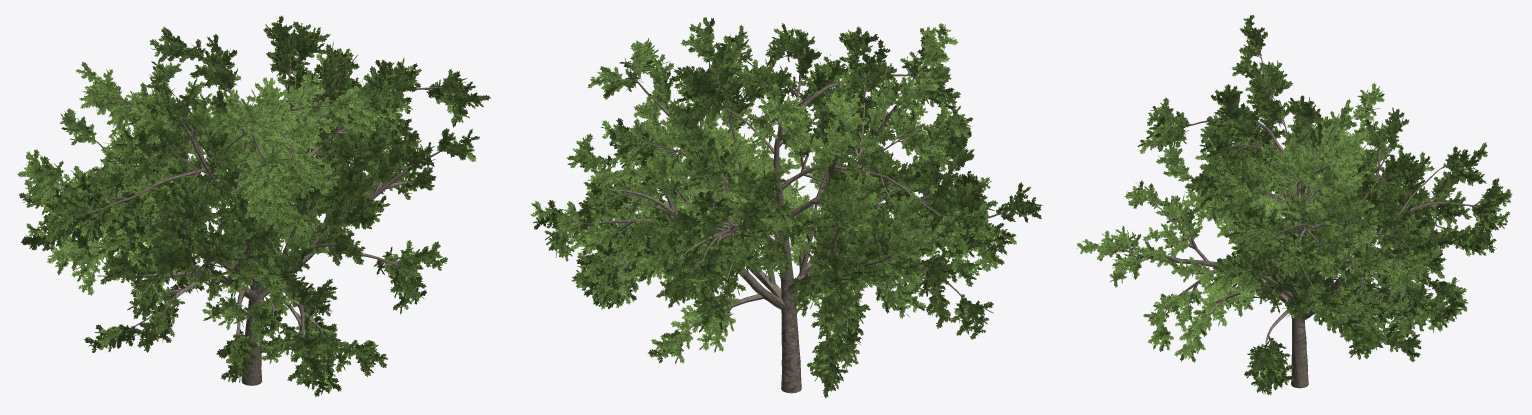
File: park-oak-b.gltf
3 renders of one model, left to right at view 1: azimuth 30°, elevation 25°; view 2: azimuth 150°, elevation 25°; view 3: azimuth 270°, elevation 25°, orthographic. The views are drawn at different scales.
Parts seen in each view (by area): view 1: park-oak-b; view 2: park-oak-b; view 3: park-oak-b.
Part boxes in pixels (left/top/right/bottom): park-oak-b: left=17, top=15, right=490, bottom=396; park-oak-b: left=530, top=17, right=1042, bottom=398; park-oak-b: left=1077, top=15, right=1512, bottom=394.
Bounding box in the file's own units: 1.22 × 1 × 1.25.
Materials: 2 (2 with a texture image).
